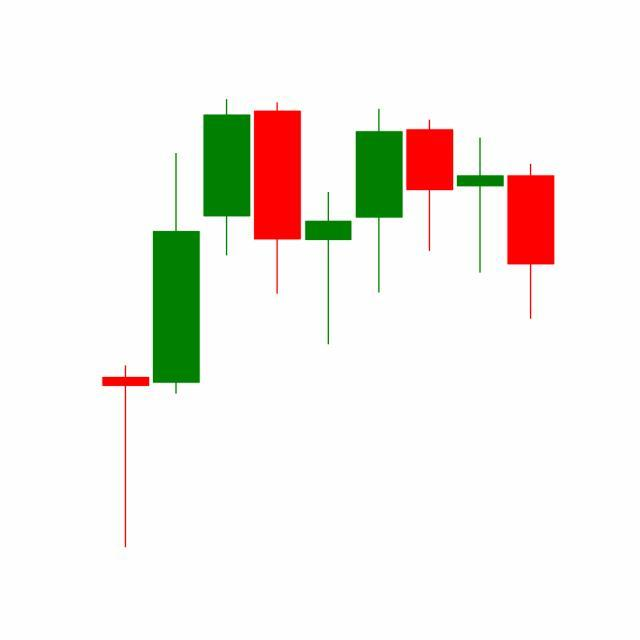Hikkake Pattern: (252, 100, 506, 349)
